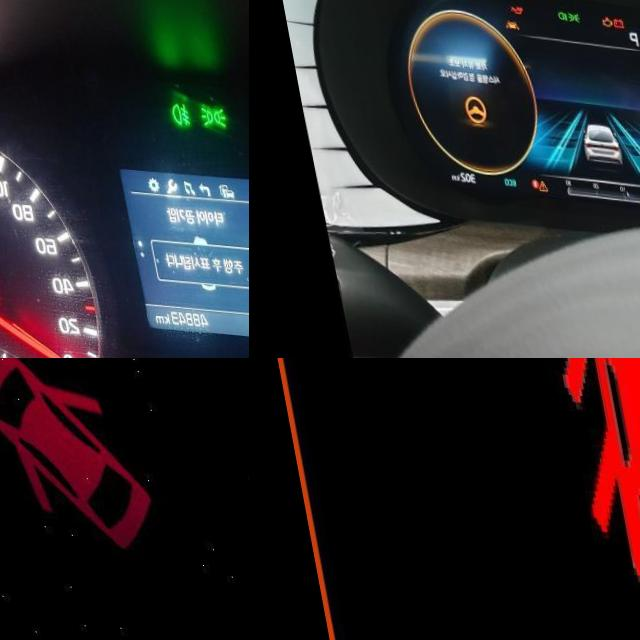Central Warning lamp: (523, 175, 534, 187)
FrontFogLight: (164, 95, 185, 121)
LaneCenteringOff: (497, 14, 511, 25)
Low beam: (550, 4, 560, 15)
SideLamp: (193, 97, 222, 123), (559, 4, 573, 17)
